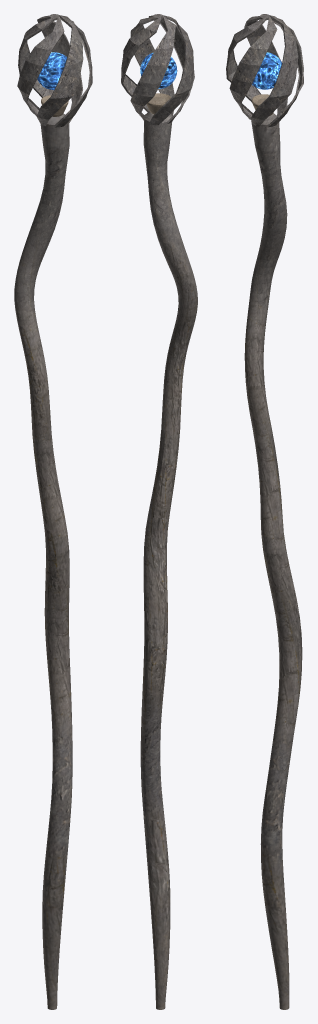
File: wizards_cane.glb
The picture shows the model from 3 angles, left to right: view 1: azimuth 30°, elevation 25°; view 2: azimuth 210°, elevation 25°; view 3: azimuth 330°, elevation 25°; orthographic projection. The views are drawn at different scales.
Parts seen in each view (by area): view 1: Object_2; view 2: Object_2; view 3: Object_2.
Boxes of the visible parts, left/top/right/bottom form: Object_2: left=14, top=14, right=92, bottom=1009; Object_2: left=121, top=14, right=197, bottom=1009; Object_2: left=226, top=14, right=303, bottom=1009.
Bounding box in the file's own units: 0.1072 × 1.54 × 0.1066.
Materials: 1 (1 with a texture image).
